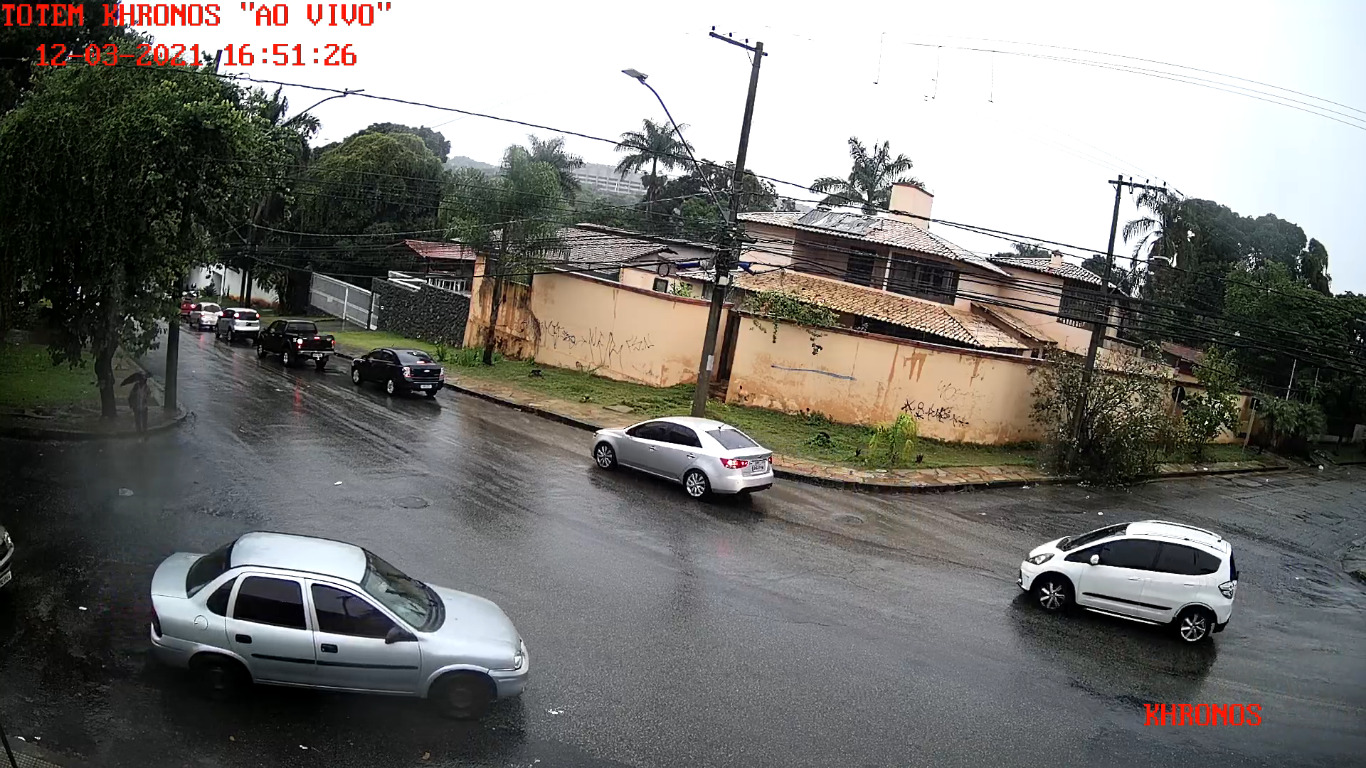car: (148, 531, 530, 724), (1018, 520, 1240, 646), (590, 415, 775, 497), (347, 348, 445, 400), (257, 319, 337, 367)
